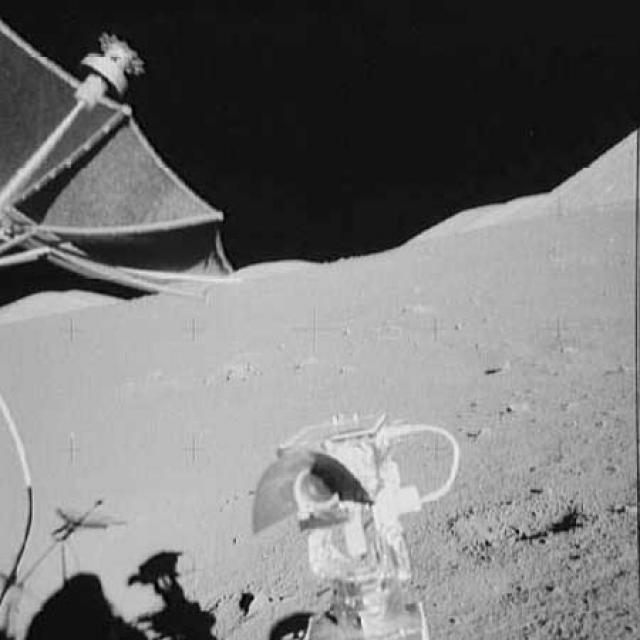artifact: (0, 18, 253, 303), (244, 414, 463, 638), (0, 396, 44, 611)
rock: (484, 356, 511, 380), (502, 398, 531, 419), (470, 426, 497, 445)
